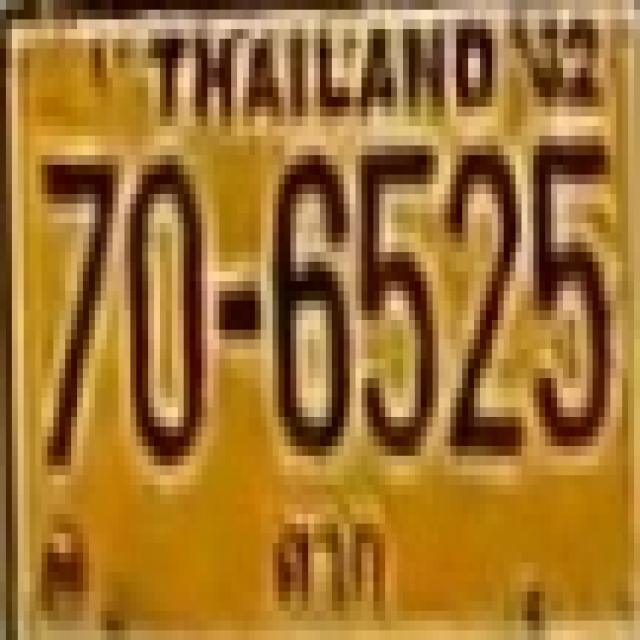0: (125, 145, 202, 456)
2: (444, 141, 516, 451)
5: (528, 126, 604, 436), (356, 136, 432, 446)
6: (272, 146, 344, 446)
7: (36, 150, 112, 461), (36, 150, 112, 354)
TAK: (255, 502, 401, 632)
